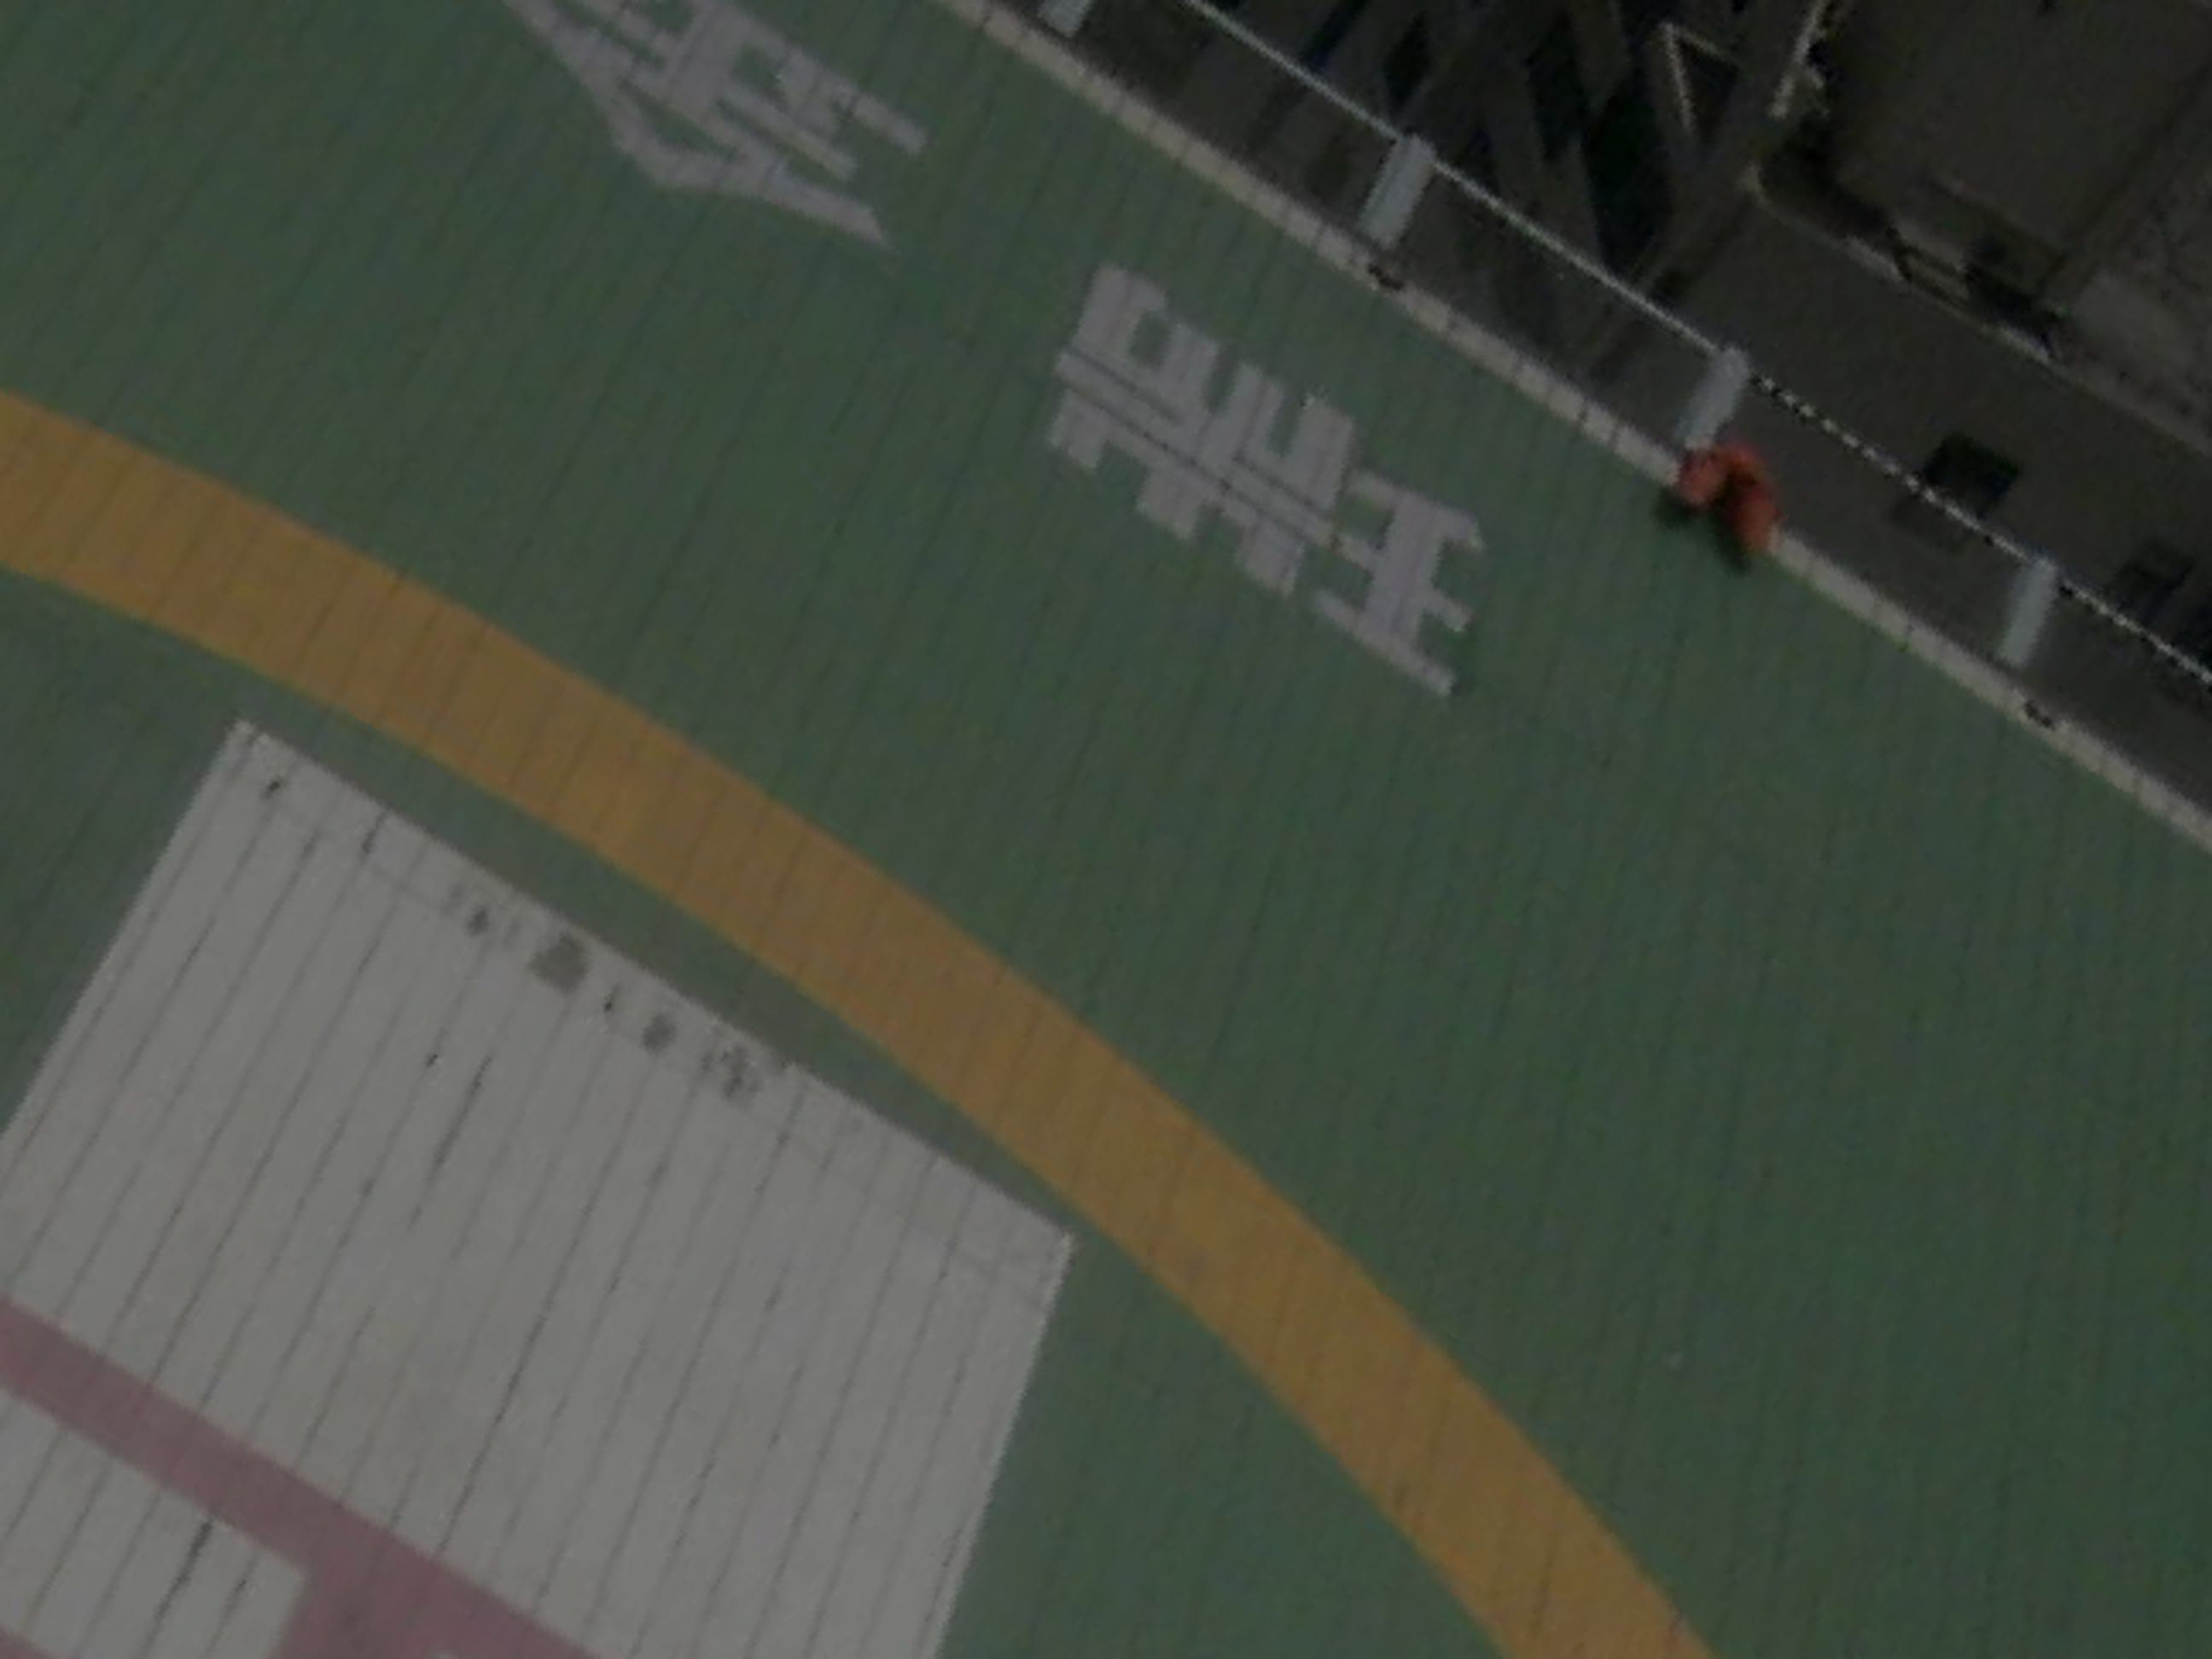Apron: (0, 361, 1726, 1659)
